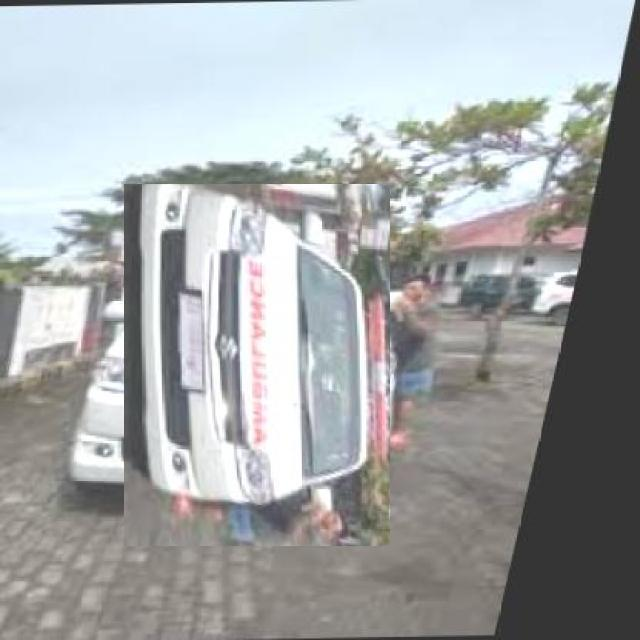emergency-vehicle: (100, 208, 414, 523)
